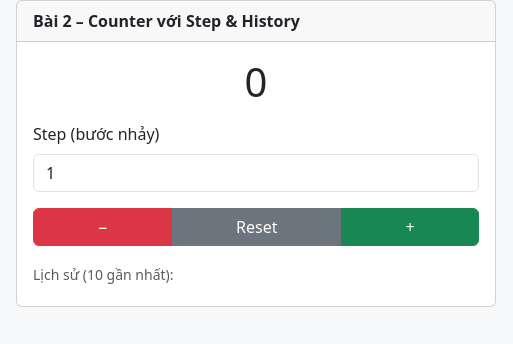
Test: Bài 2 – Counter với Step & History › ✅ Task 2+8 – INCREMENT với step mặc định › tăng 1 khi step = 1
The width and height of the screenshot is (513, 344).
Step 1. Click the button with test id "btn-increment" → [410, 227], box [341,208,479,246]
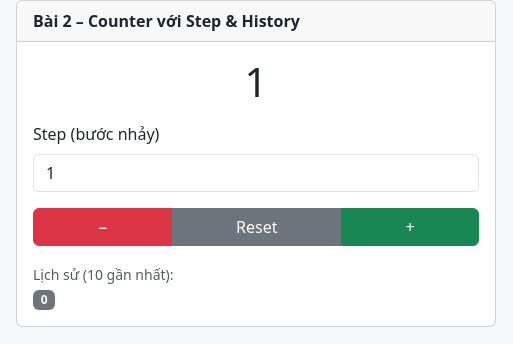
Expected: the heading with test id "count-display" reads "1", [244,54,267,109]
